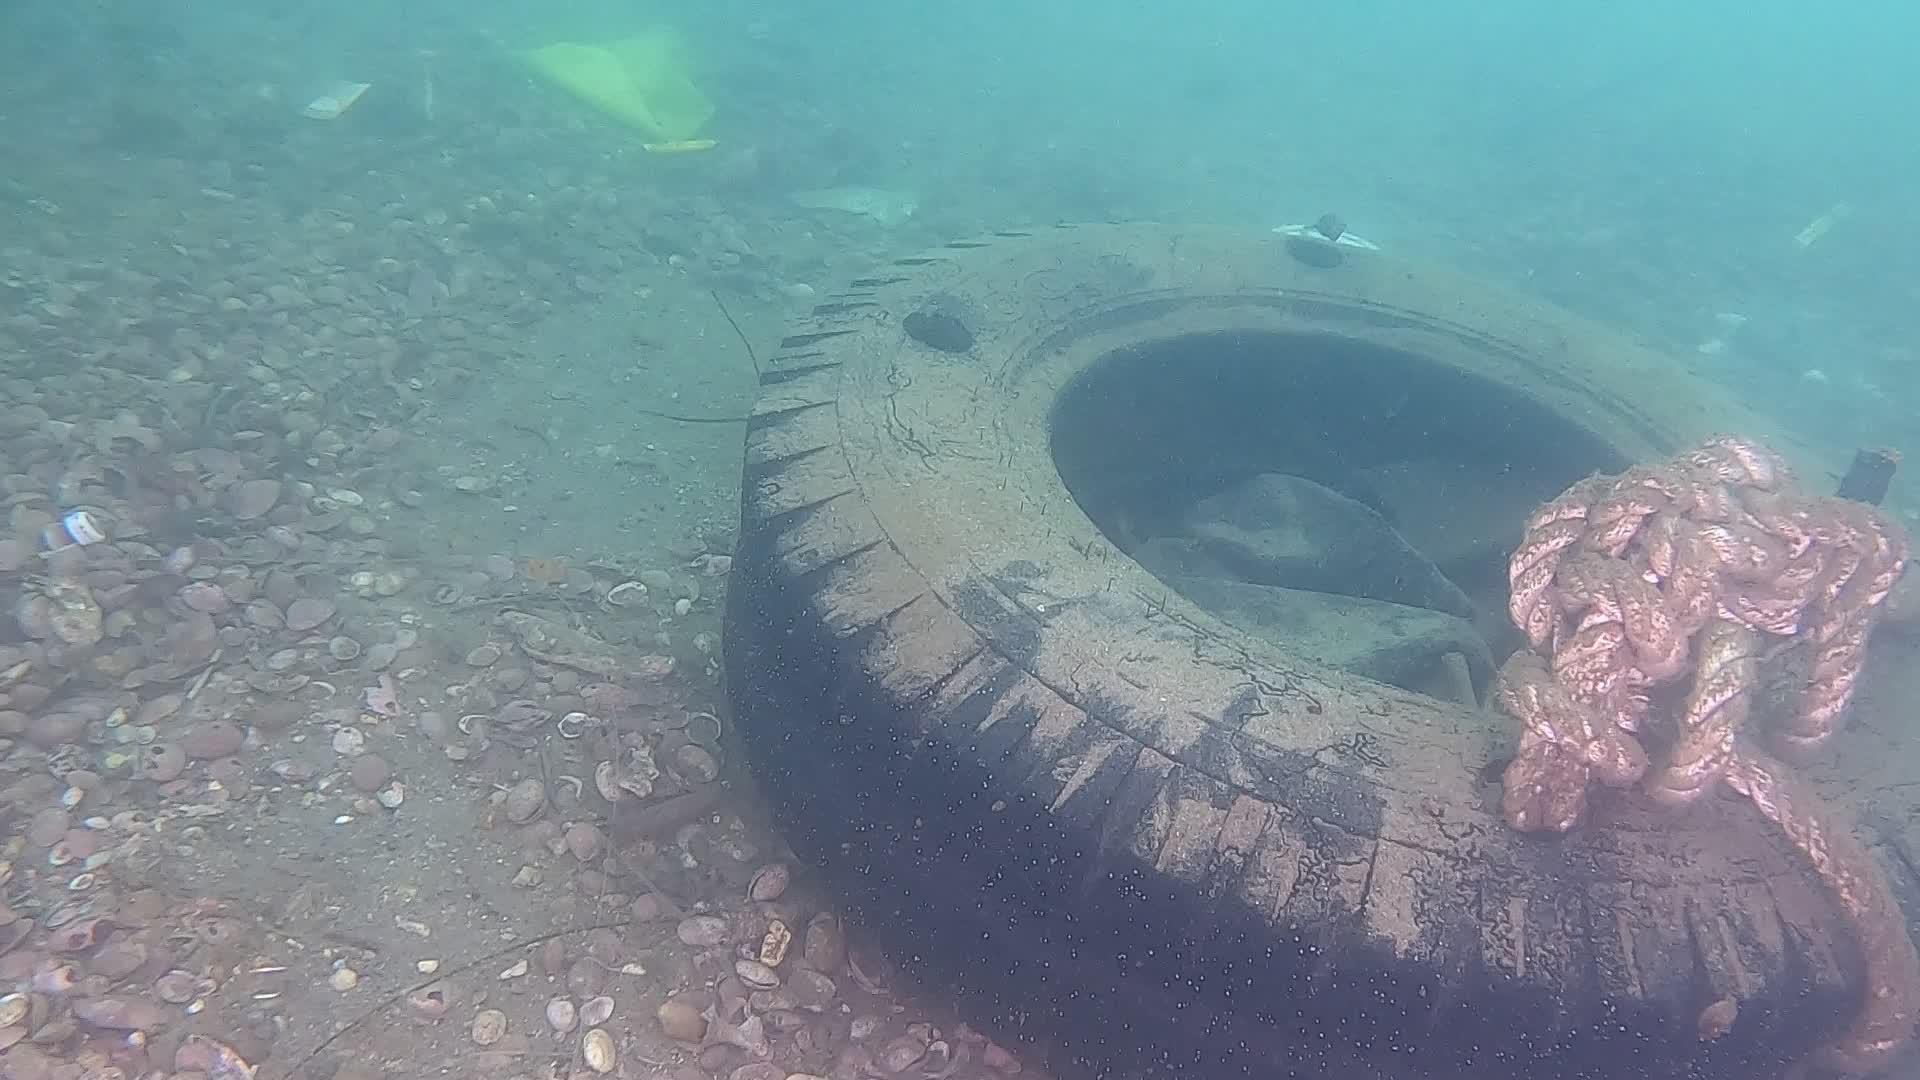bundle of ropes: (1489, 430, 1920, 1080)
tire: (729, 214, 1920, 1080)
